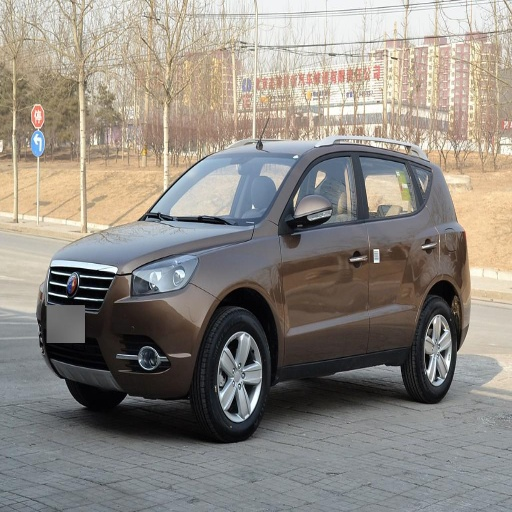front_bumper: (36, 257, 214, 397)
front_glass: (138, 148, 296, 223)
front_left_door: (281, 149, 368, 362)
